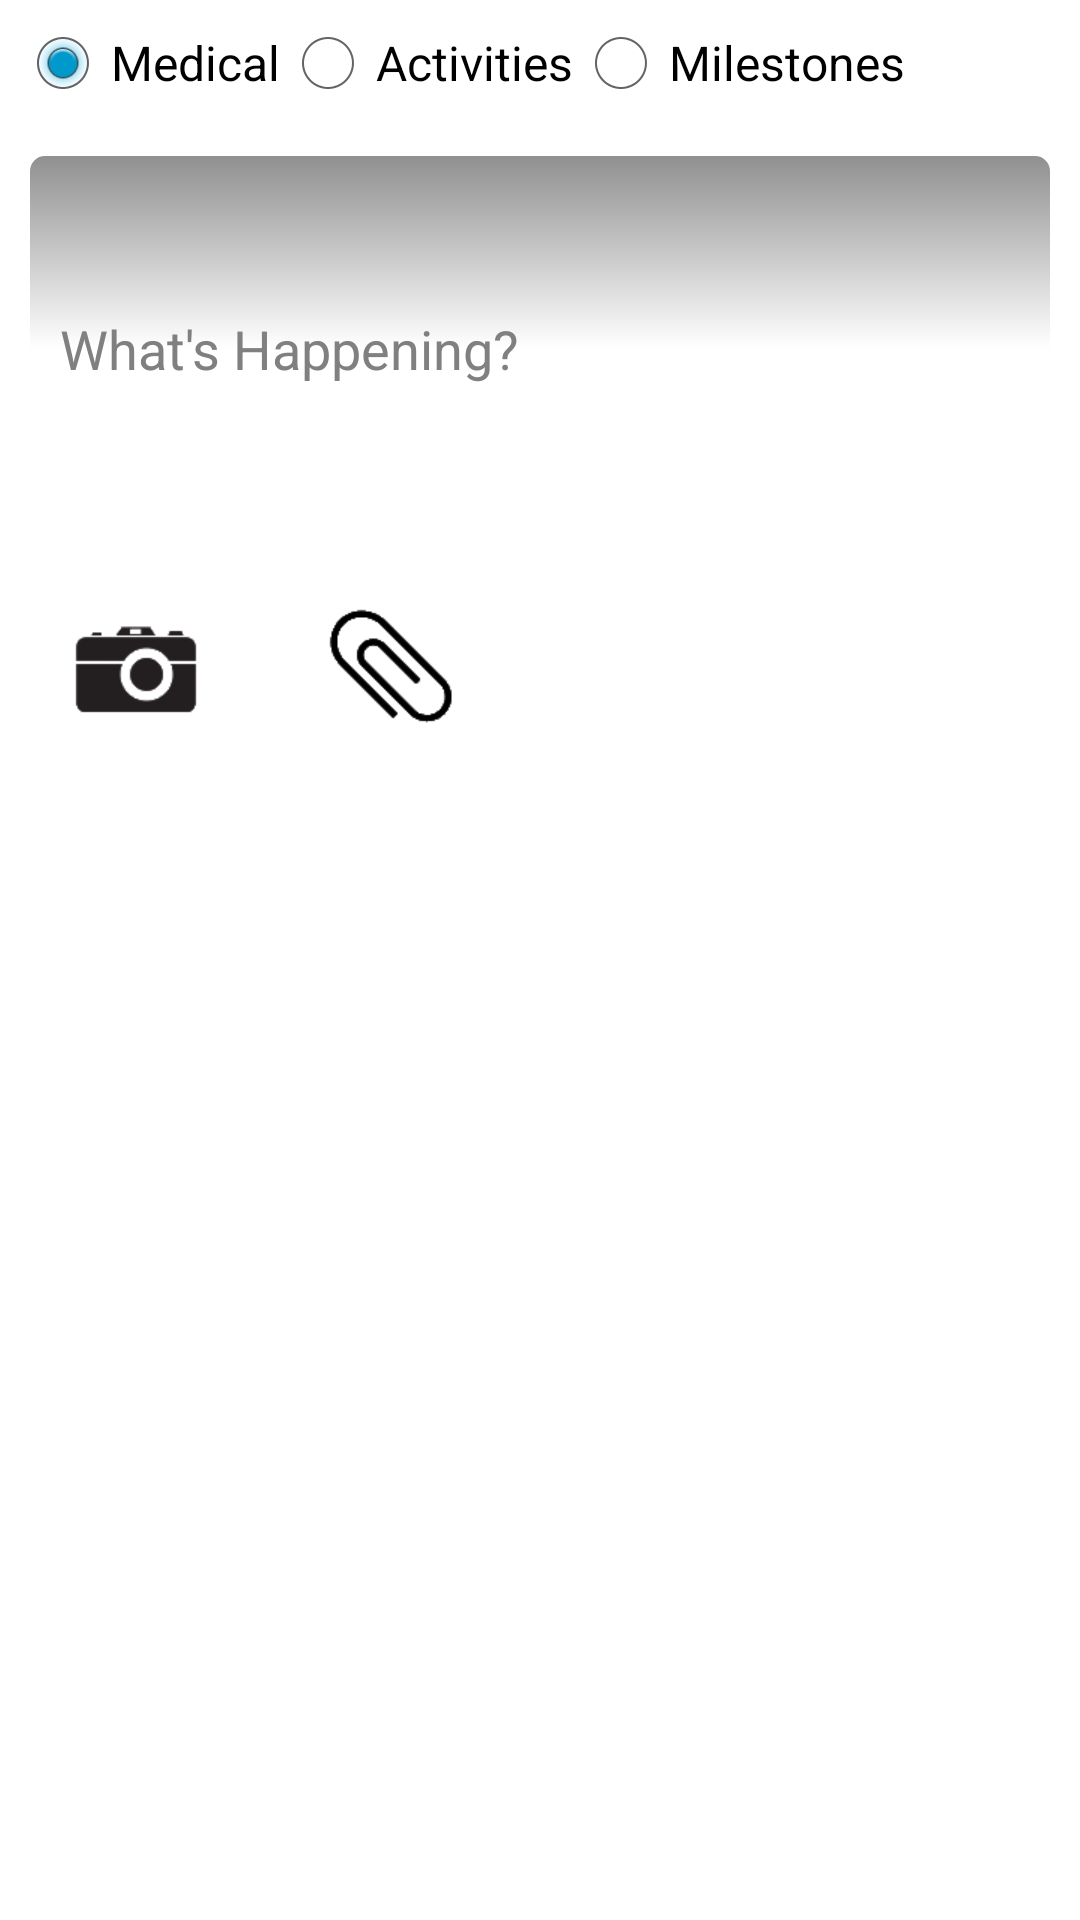

Icons on this 1080 x 1920 Android screen, each with its box as (x1, y1, x2, y2):
camera: (75, 626, 197, 713)
